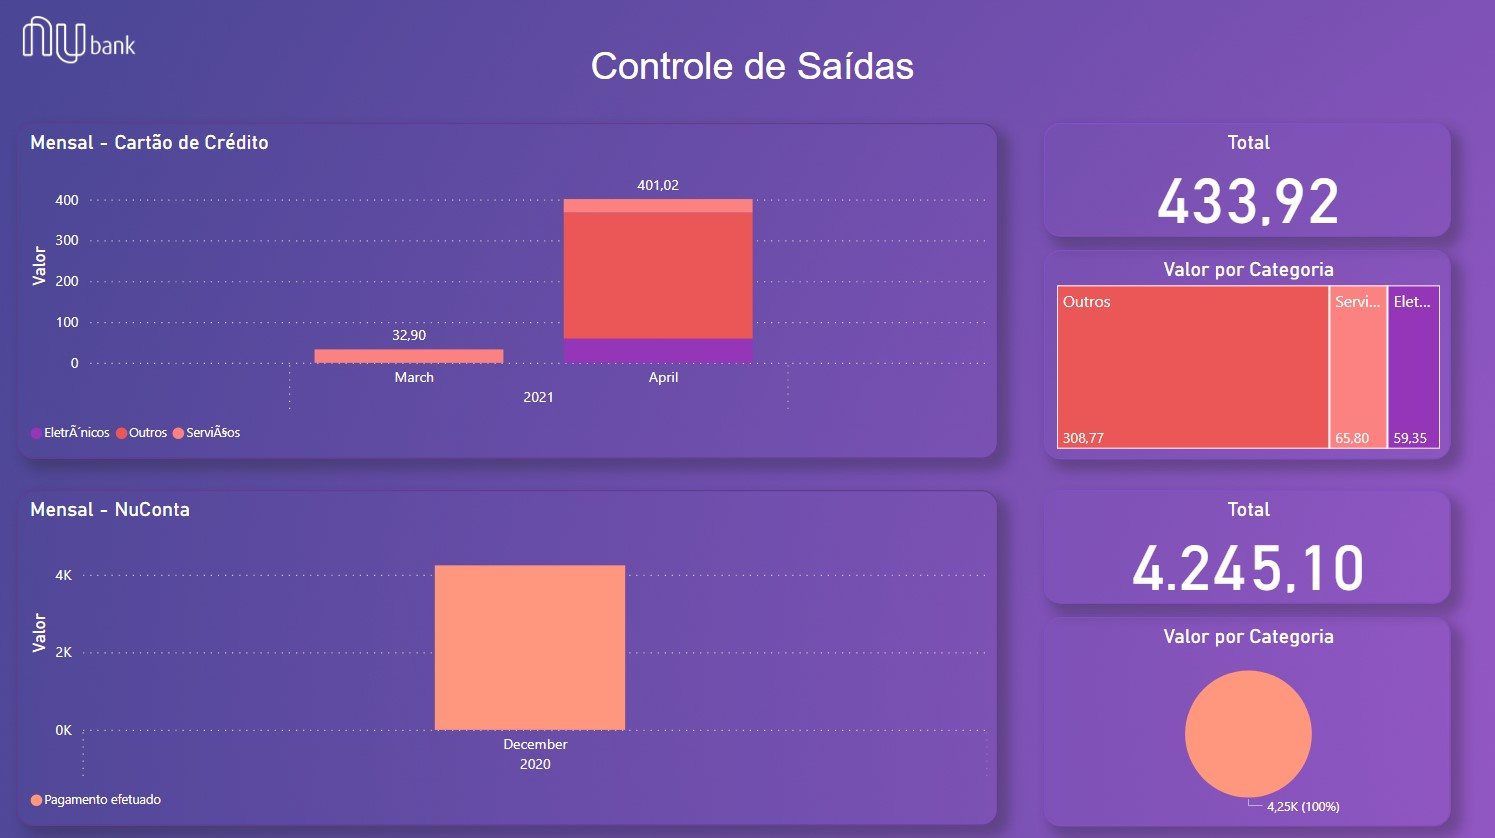

The page's visual inventory and layout, read from the dashboard file:
{"tool":"powerbi","page":{"name":"Controle de Saídas","canvas":[1280,720],"ordinal":0},"visuals":[{"type":"textbox","box":[401,37.2,476.3,49.9],"z":1000},{"type":"lineStackedColumnComboChart","title":"Mensal - Cartão de Crédito","fields":{"Y":["Sum(card_statements.amount)"],"Series":["card_statements.title_capitalized"],"Category":["card_statements.time.Variation.Date Hierarchy.Year","card_statements.time.Variation.Date Hierarchy.Month"]},"box":[16.9,108.3,830,284.3],"z":2000},{"type":"card","title":"Total","fields":{"Values":["Sum(card_statements.amount)"]},"box":[885.8,108.3,344.3,96.5],"z":3000},{"type":"treemap","title":"Valor por Categoria","fields":{"Values":["Sum(card_statements.amount)"],"Details":["card_statements.title_capitalized"]},"box":[885.8,215.7,344.3,176.8],"z":4000},{"type":"lineStackedColumnComboChart","title":"Mensal - NuConta","fields":{"Category":["account_statements.postDate.Variation.Date Hierarchy.Year","account_statements.postDate.Variation.Date Hierarchy.Month"],"Y":["Sum(account_statements.amount)"],"Series":["account_statements.title"]},"box":[16.9,418.8,830,284.3],"z":5000},{"type":"card","title":"Total","fields":{"Values":["Sum(account_statements.amount)"]},"box":[885.8,418.8,344.3,96.5],"z":6000},{"type":"pieChart","title":"Valor por Categoria","fields":{"Category":["account_statements.title"],"Y":["Sum(account_statements.amount)"]},"box":[885.8,526.3,344.3,176.8],"z":7000},{"type":"image","box":[16.9,11.8,104.9,50.8],"z":7001}]}

Visuals, with their boxes in screenshot pixels (x1, y1, x2, y2), scaled from the page's 1280x720 canvas onto the 1495x838 screenshot:
textbox: rect(468, 43, 1025, 101)
"Mensal - Cartão de Crédito" lineStackedColumnComboChart: rect(20, 126, 989, 457)
"Total" card: rect(1035, 126, 1437, 238)
"Valor por Categoria" treemap: rect(1035, 251, 1437, 457)
"Mensal - NuConta" lineStackedColumnComboChart: rect(20, 487, 989, 818)
"Total" card: rect(1035, 487, 1437, 600)
"Valor por Categoria" pieChart: rect(1035, 613, 1437, 818)
image: rect(20, 14, 142, 73)
